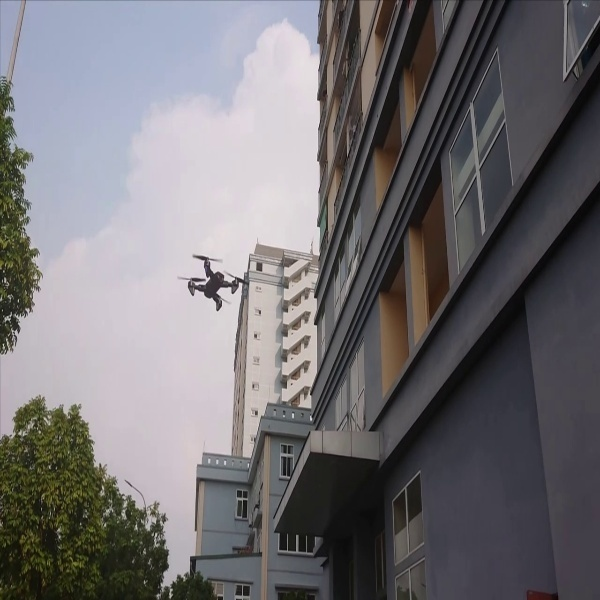drone: (173, 248, 254, 316)
